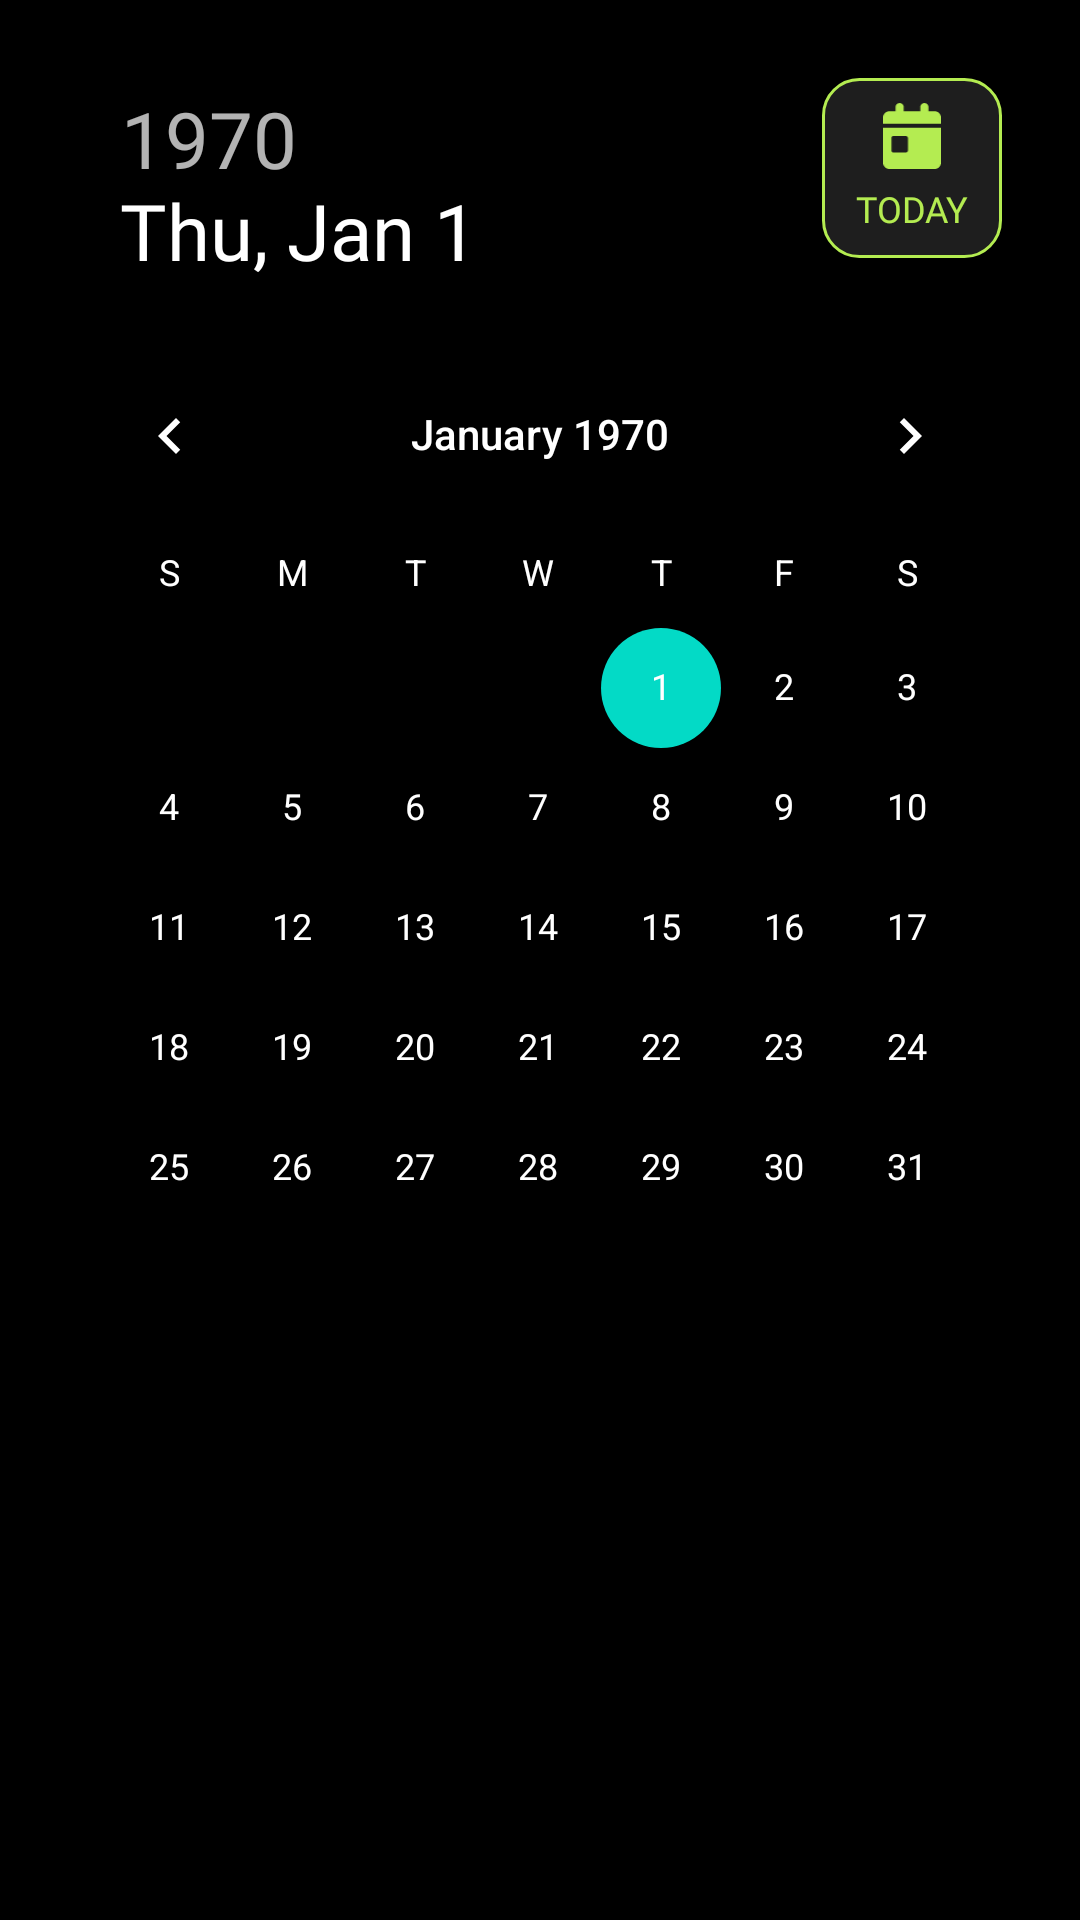

Locate icon controls on the screen. Image size 1080 × 1920, boxes as Rect(x1, y1, x2, y2).
calendar day: Rect(883, 103, 941, 169)
